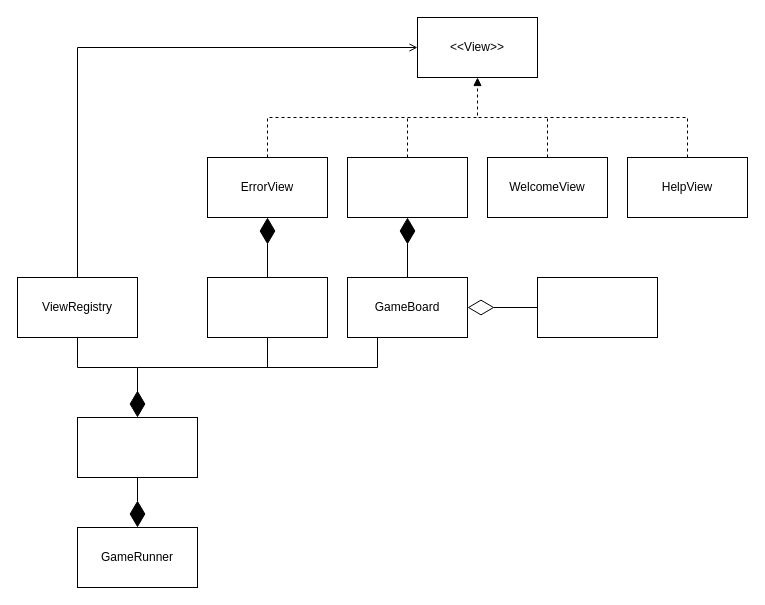
This 765x605 diagram has some shape labels left out. Here are the shapes that lost their labels. From the top down, the centre of each, then its label:
At point (407, 187): "GameBoardView".
At point (267, 307): "ErrorMessage".
At point (597, 307): "Cell".
At point (137, 447): "GameController".
